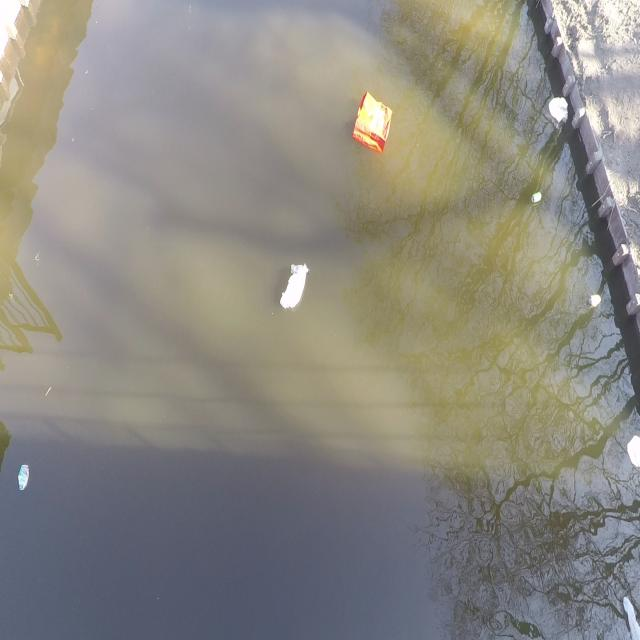Autre plastique: (274, 254, 312, 320)
Non plastique: (14, 455, 30, 504), (587, 287, 603, 313), (530, 186, 545, 206)
Sac plastique: (347, 89, 394, 164), (545, 93, 570, 126)
